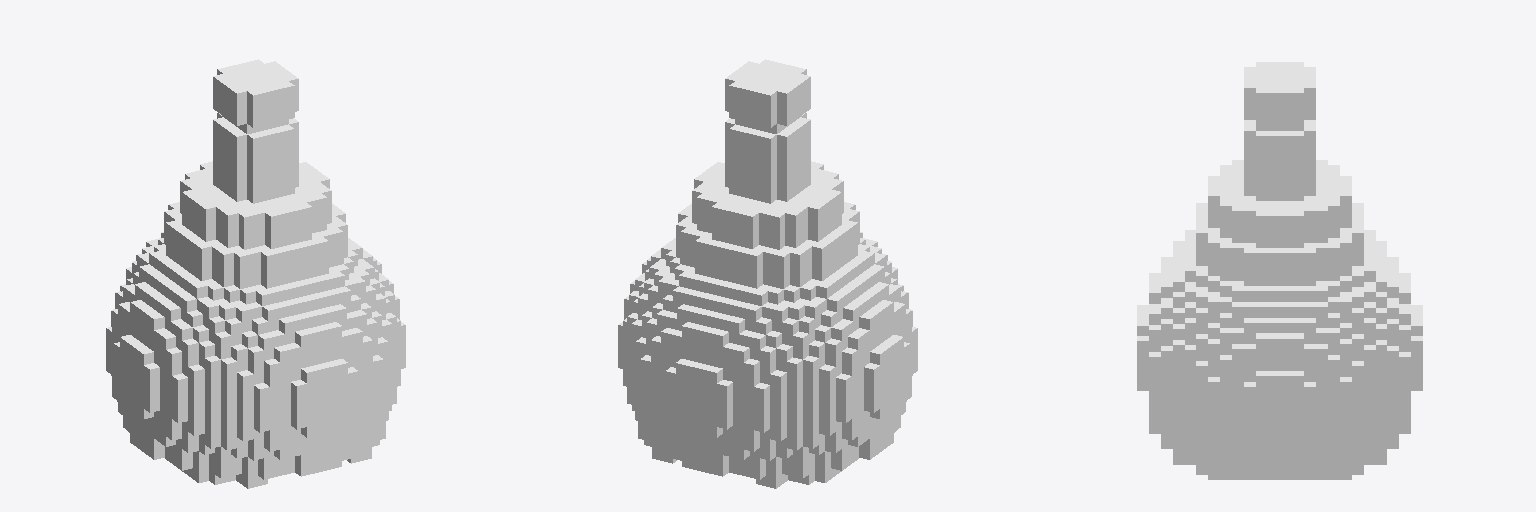
The model's file is PotionShelf-7.obj.
The picture shows the model from 3 angles: view 1: azimuth 30°, elevation 25°; view 2: azimuth 150°, elevation 25°; view 3: azimuth 270°, elevation 25°; orthographic projection.
Visible parts, largest first — view 1: object 1; view 2: object 1; view 3: object 1.
Part boxes in pixels (x1,y1,x2,y2): object 1: (106,59,405,488); object 1: (618,59,917,488); object 1: (1137,62,1422,479).
Bounding box in the file's own units: 2.4 × 3.3 × 2.4.